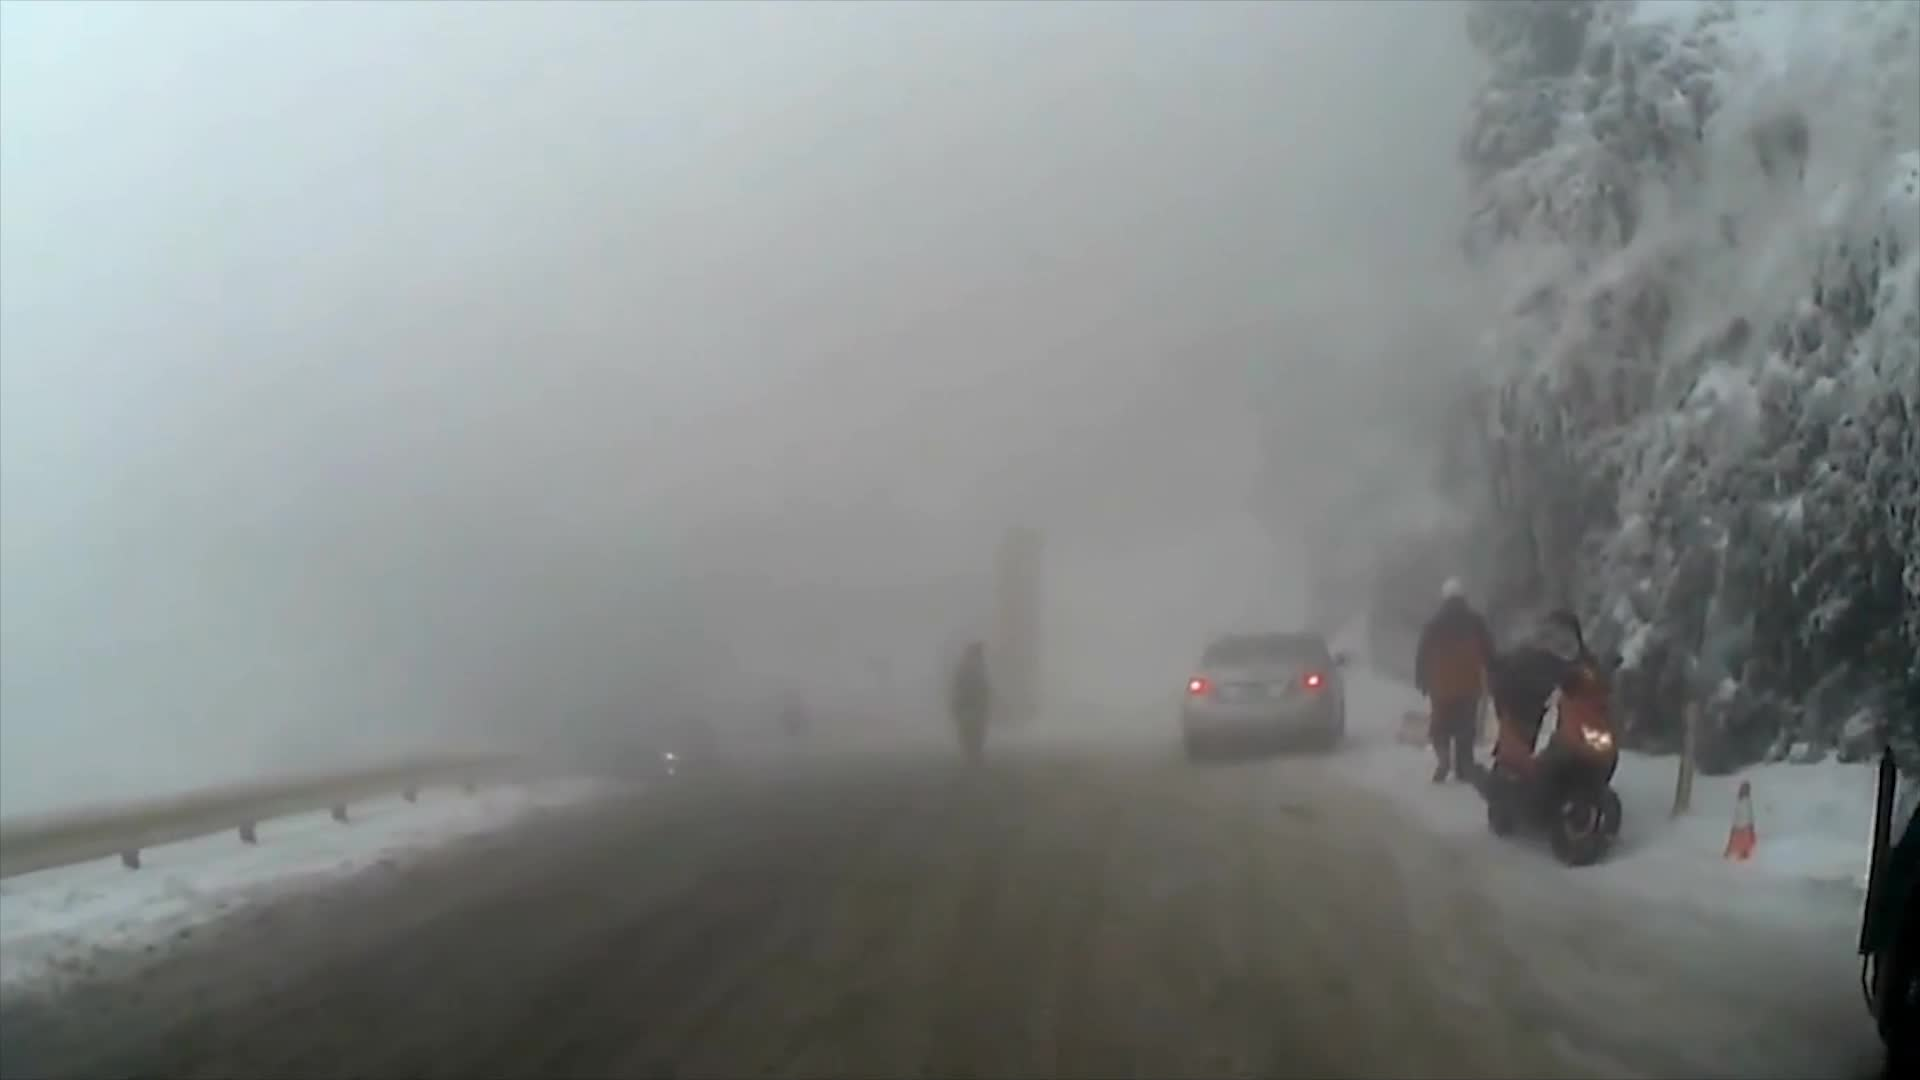pedestrian: (1410, 568, 1505, 791), (950, 637, 995, 778)
vehicle: (1852, 733, 1919, 1079), (1178, 625, 1350, 760)
